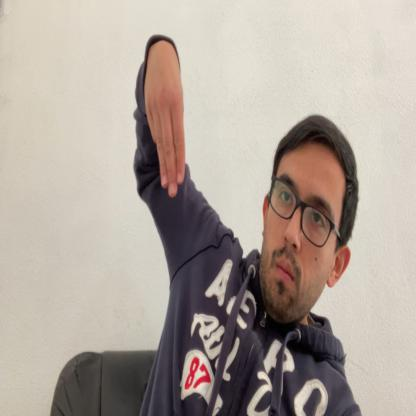M: (144, 44, 186, 198)
